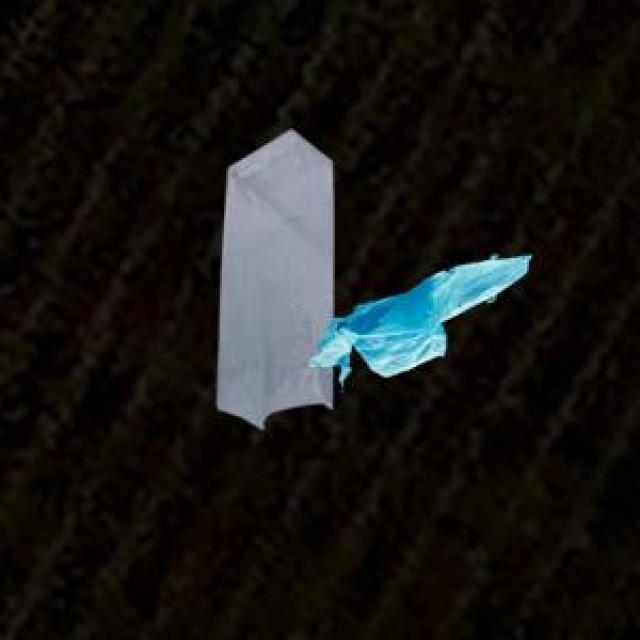waste: (216, 130, 531, 427)
